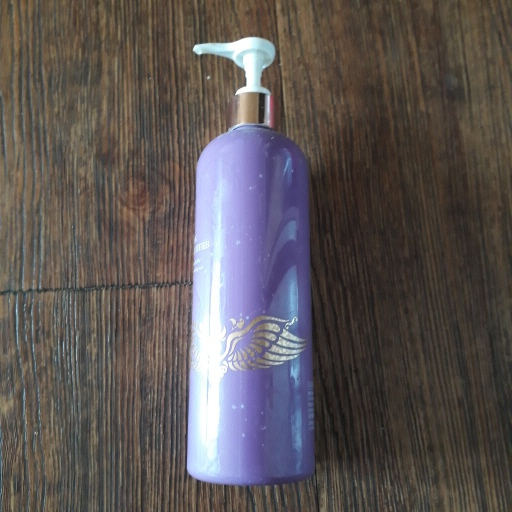Plastic_3: (175, 35, 320, 484)
